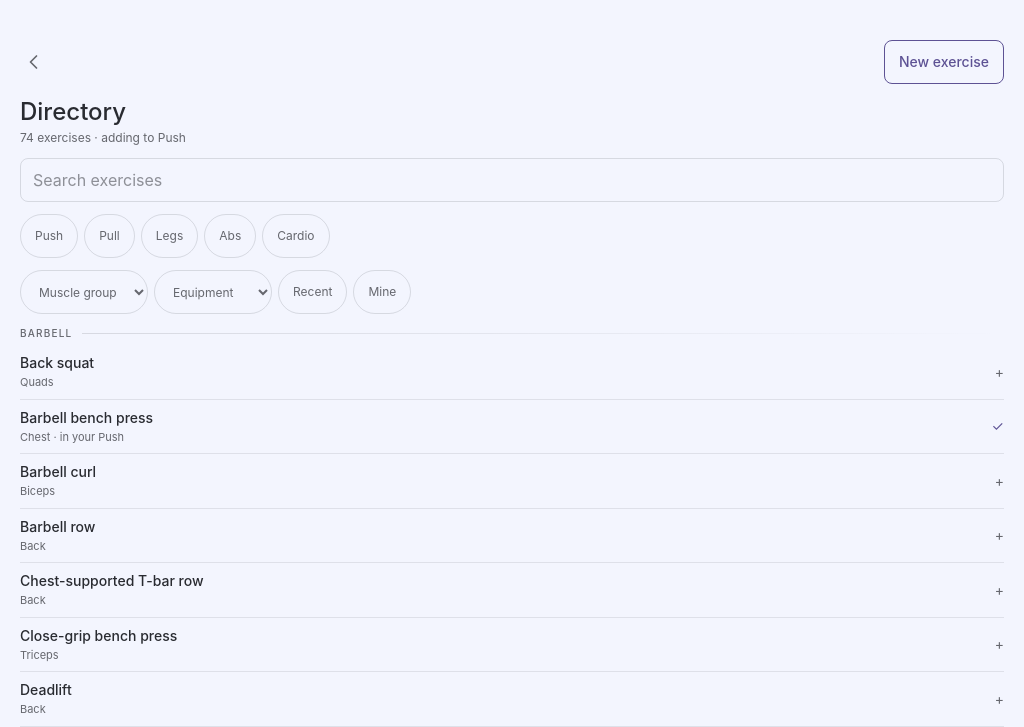
the directory › narrows to what has actually been logged
The image size is (1024, 727).
expect the heading "Directory" is shown: met, box [20,97,126,126]
Click the button "Recent" at (313, 292), box [278,270,347,314]
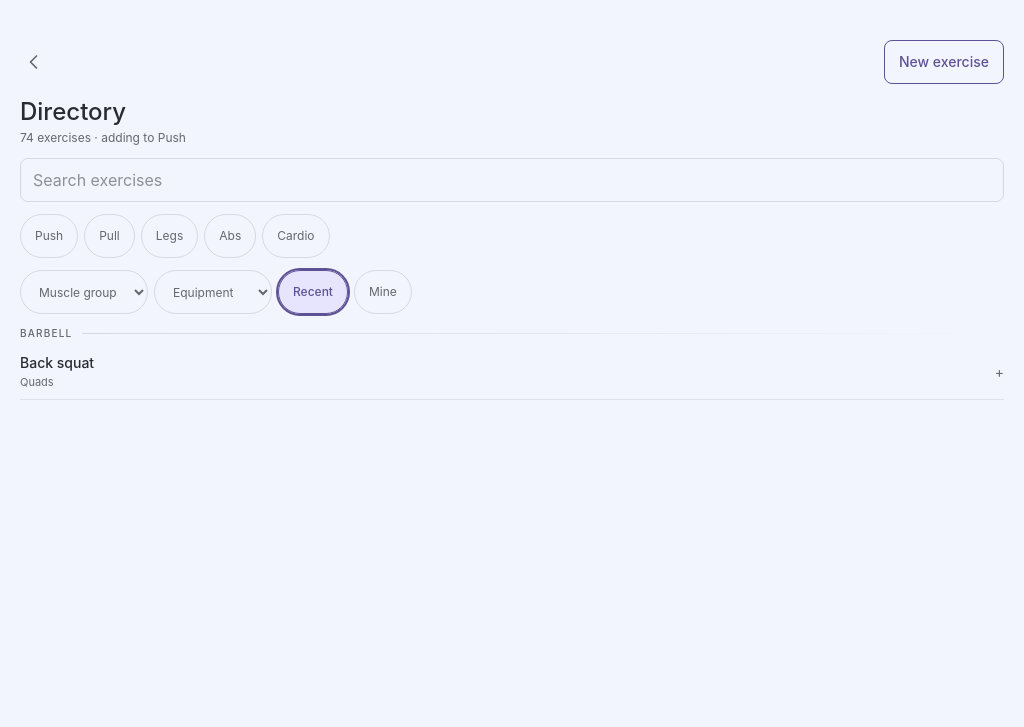
expect the text "Back squat" is shown: met, box [20,354,94,371]
expect the button "Barbell bench press" is gone: met
